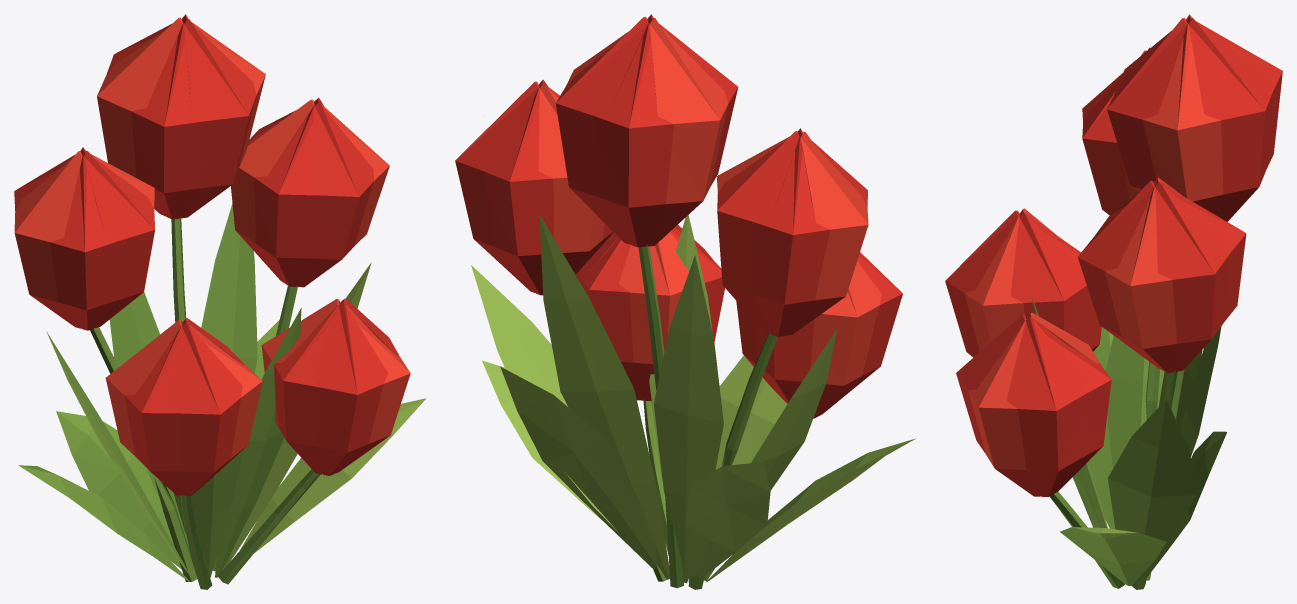
Rendered from FMS_Flower_Tulip.fbx.
3 renders of one model, left to right at view 1: azimuth 30°, elevation 25°; view 2: azimuth 150°, elevation 25°; view 3: azimuth 270°, elevation 25°, orthographic. The views are drawn at different scales.
Parts seen in each view (by area): view 1: FMS_Flower_Tulip; view 2: FMS_Flower_Tulip; view 3: FMS_Flower_Tulip.
Boxes of the visible parts, left/top/right/bottom form: FMS_Flower_Tulip: left=14, top=14, right=425, bottom=589; FMS_Flower_Tulip: left=455, top=14, right=915, bottom=589; FMS_Flower_Tulip: left=945, top=14, right=1282, bottom=589.
Bounding box in the file's own units: 0.3125 × 0.4 × 0.2161.
